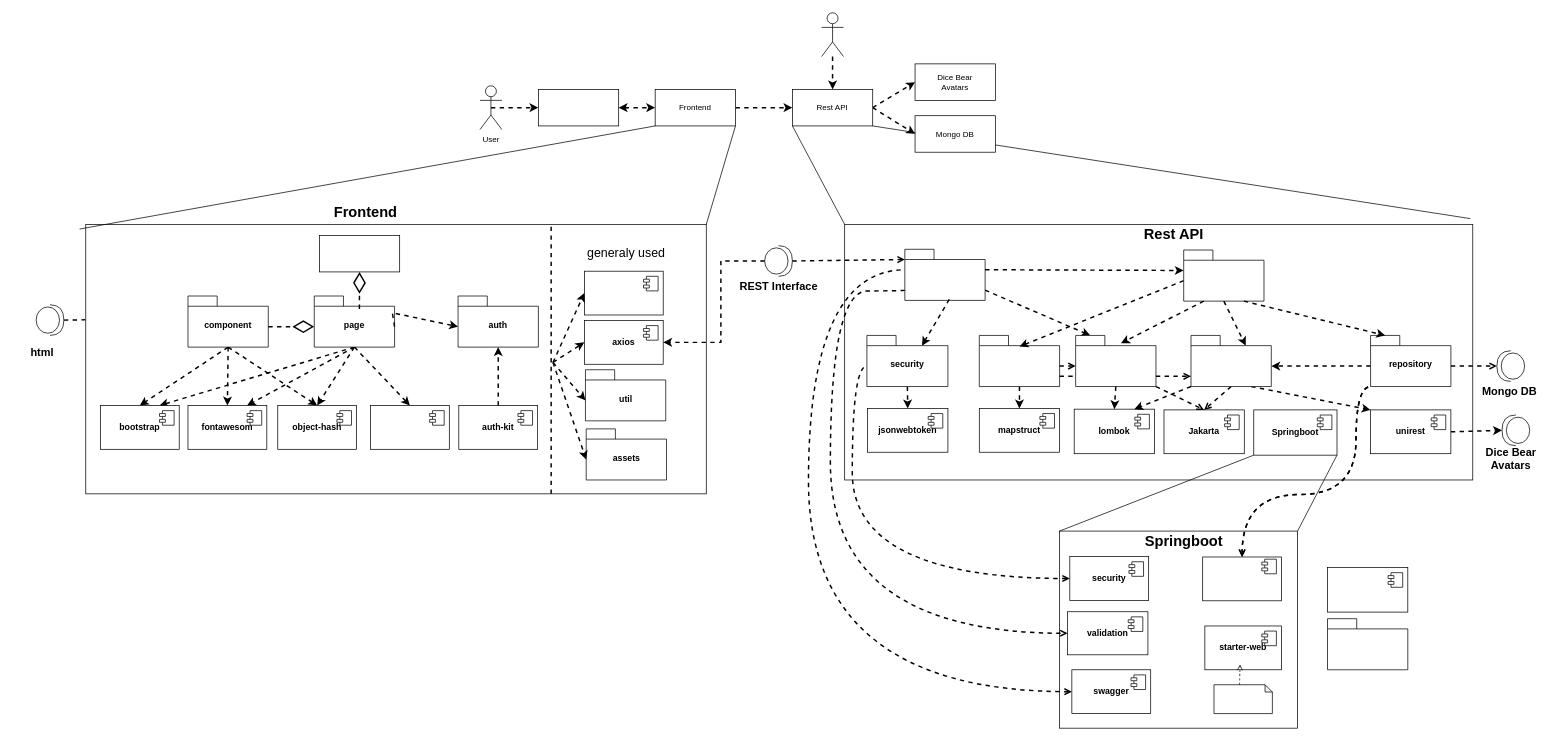
Some shapes in this 1552 by 741 pixel diagram are drawn without their labels. The centre of each missing label's shape, as x and y in pixels:
"Admin" goes at (832,34).
"contoller" goes at (944,274).
"data transiton objects (dto)" goes at (1115,361).
"data-mongodb" goes at (1242,578).
"Libraray" goes at (1367,589).
"main.jsx" goes at (359,253).
"mapper" goes at (1019,361).
"model" goes at (1230,361).
"motion" goes at (409,427).
"Package" goes at (1367,644).
"react" goes at (623,292).
"service" goes at (1223,275).
"Static Web Server" goes at (578,107).
"Used all over" goes at (1242,699).
